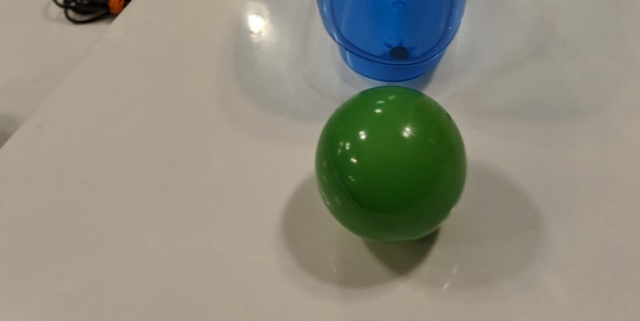ball: (311, 84, 467, 245)
